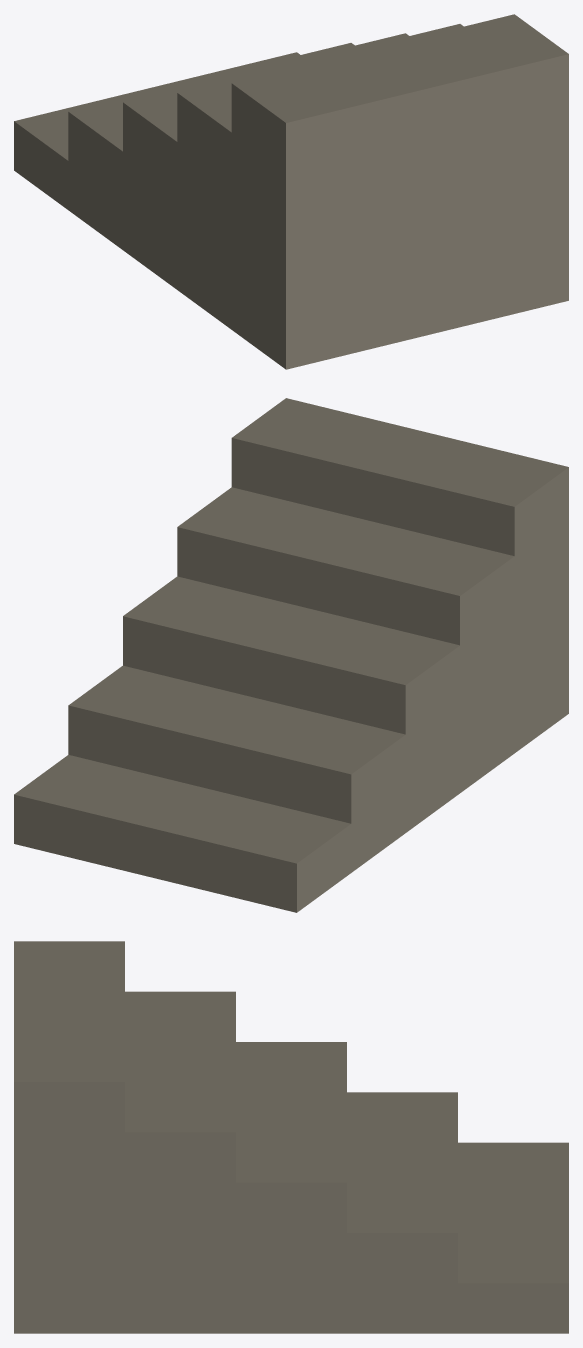
Rendered from terr_stairs.glb.
The picture shows the model from 3 angles, top to bottom: view 1: azimuth 30°, elevation 25°; view 2: azimuth 150°, elevation 25°; view 3: azimuth 270°, elevation 25°; orthographic projection.
Visible parts, largest first — view 1: terr_stairs; view 2: terr_stairs; view 3: terr_stairs.
Boxes of the visible parts, x1=… form: terr_stairs: x1=14, y1=14, x2=568, y2=369; terr_stairs: x1=14, y1=398, x2=568, y2=912; terr_stairs: x1=14, y1=941, x2=568, y2=1333.
Size of the model in its own units: 0.6 by 0.5 by 1.
1 material, 1 textured.
